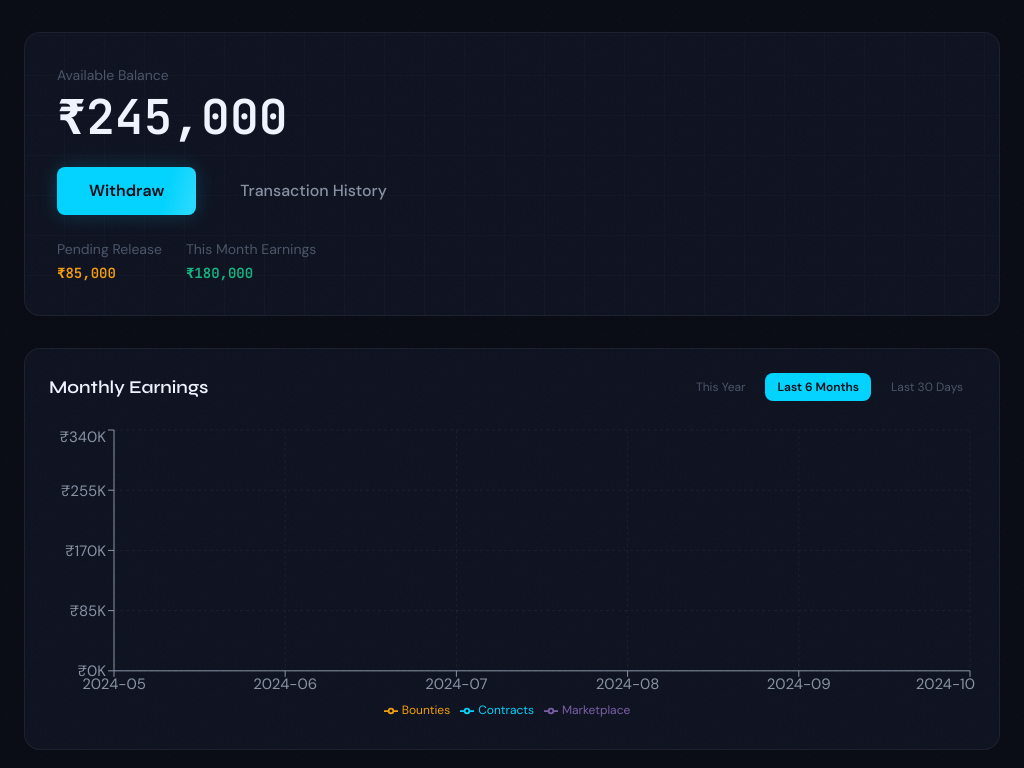
Test: Module 7: Payments, Analytics & Settings › Engineer Wallet › shows KYC banner for amounts over ₹50,000
The width and height of the screenshot is (1024, 768).
Click the button with test id "withdraw-btn" at [127, 191], box [57,167,196,215]
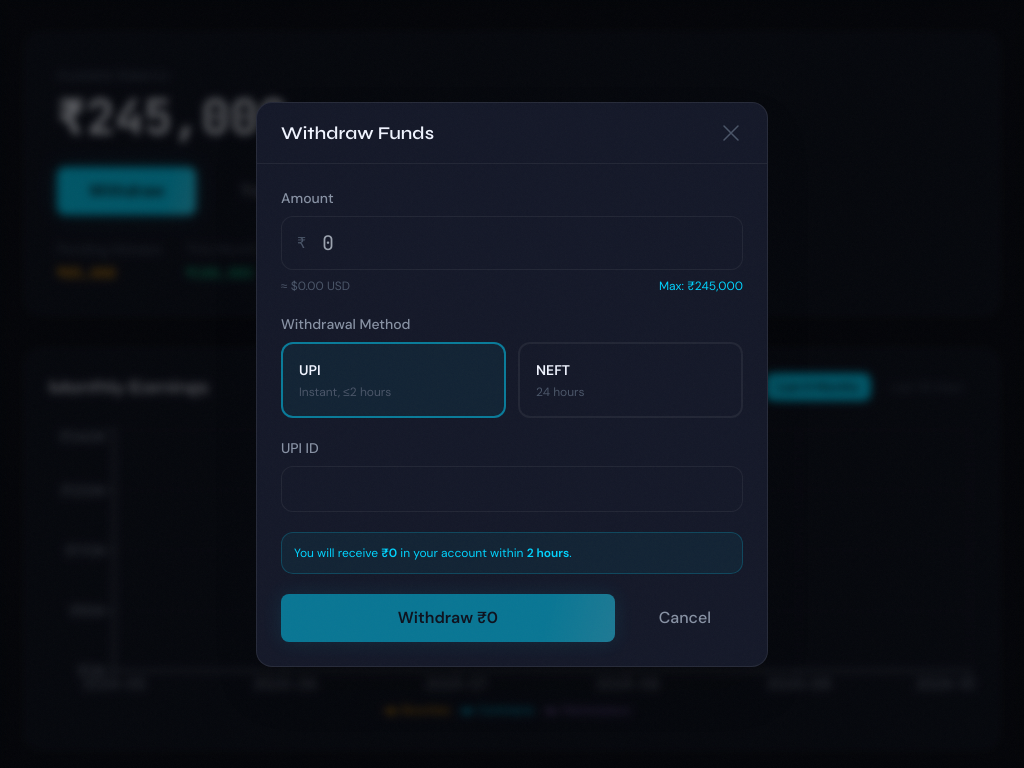
Type "60000" into the number field with test id "withdraw-amount-input" at [512, 242], box [281,216,743,270]
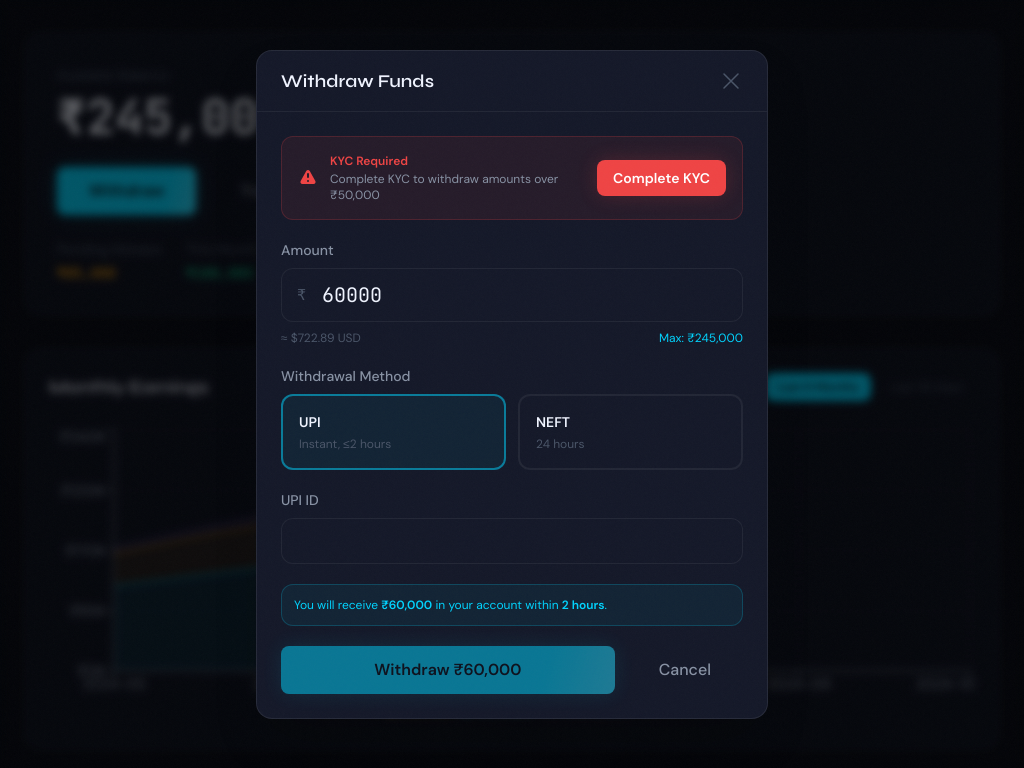
Expected: the text "KYC Required" is shown, [330,152,408,168]
Expected: the text "Complete KYC to withdraw amounts over ₹50,000" is shown, [330,170,585,202]
